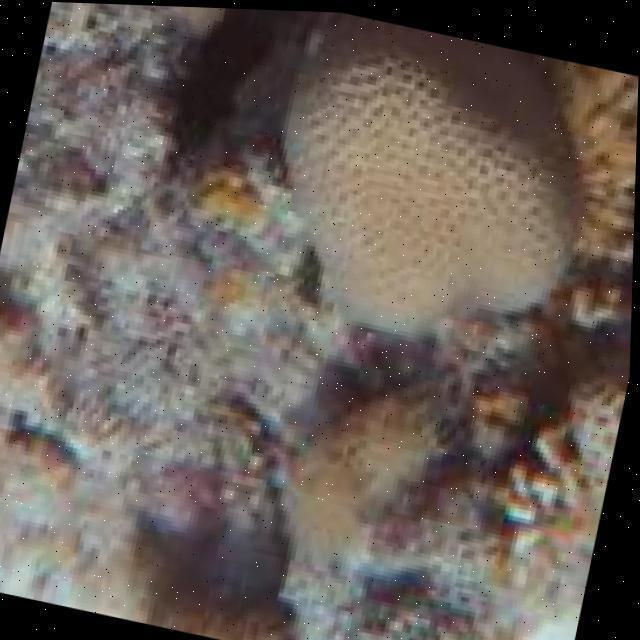Healthy Coral: (252, 0, 640, 353)
